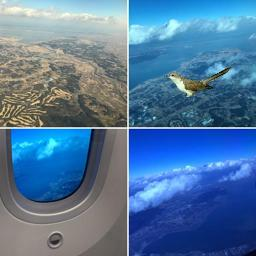Cuckoo: (164, 66, 232, 97)
